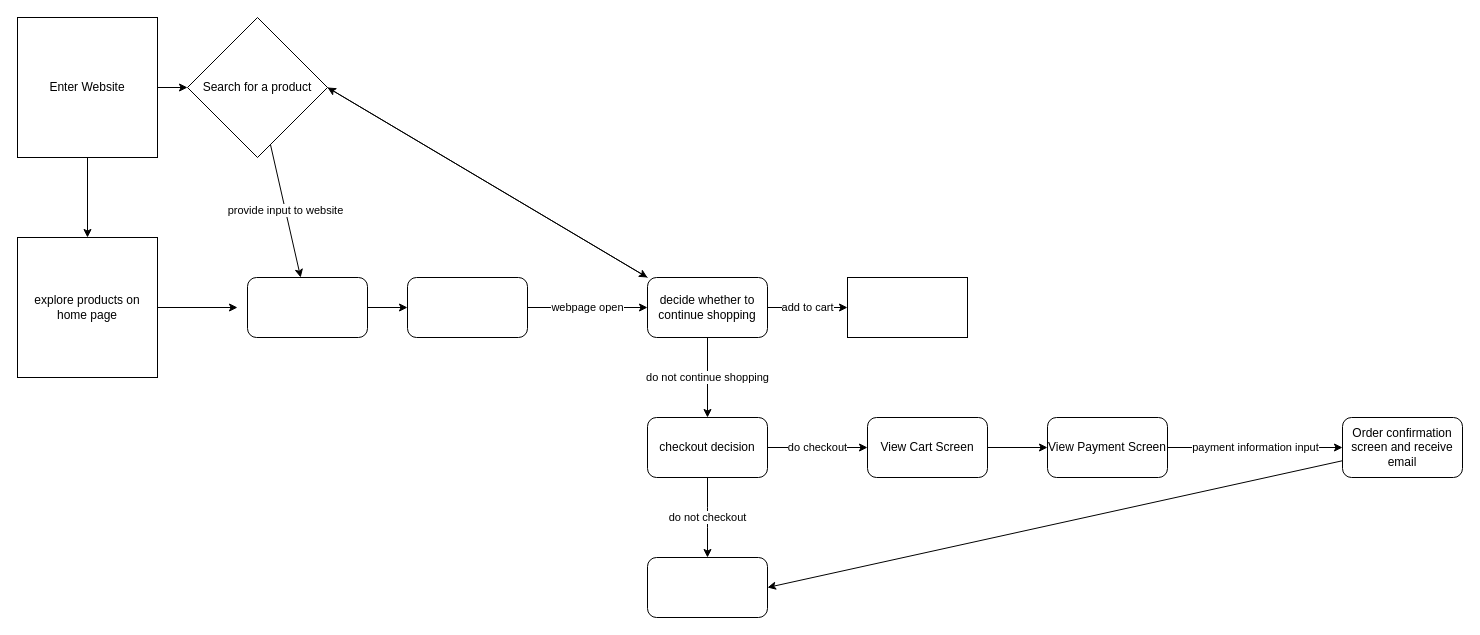
The diagram is 1480 pixels wide and 635 high, and some of its shapes have lost their labels. Here are the shapes that lost their labels. From the top down, the centre of each, then its label:
(307,307): look over products
(467,307): view specific product
(907,307): Add to cart confirmation
(707,587): Exit
